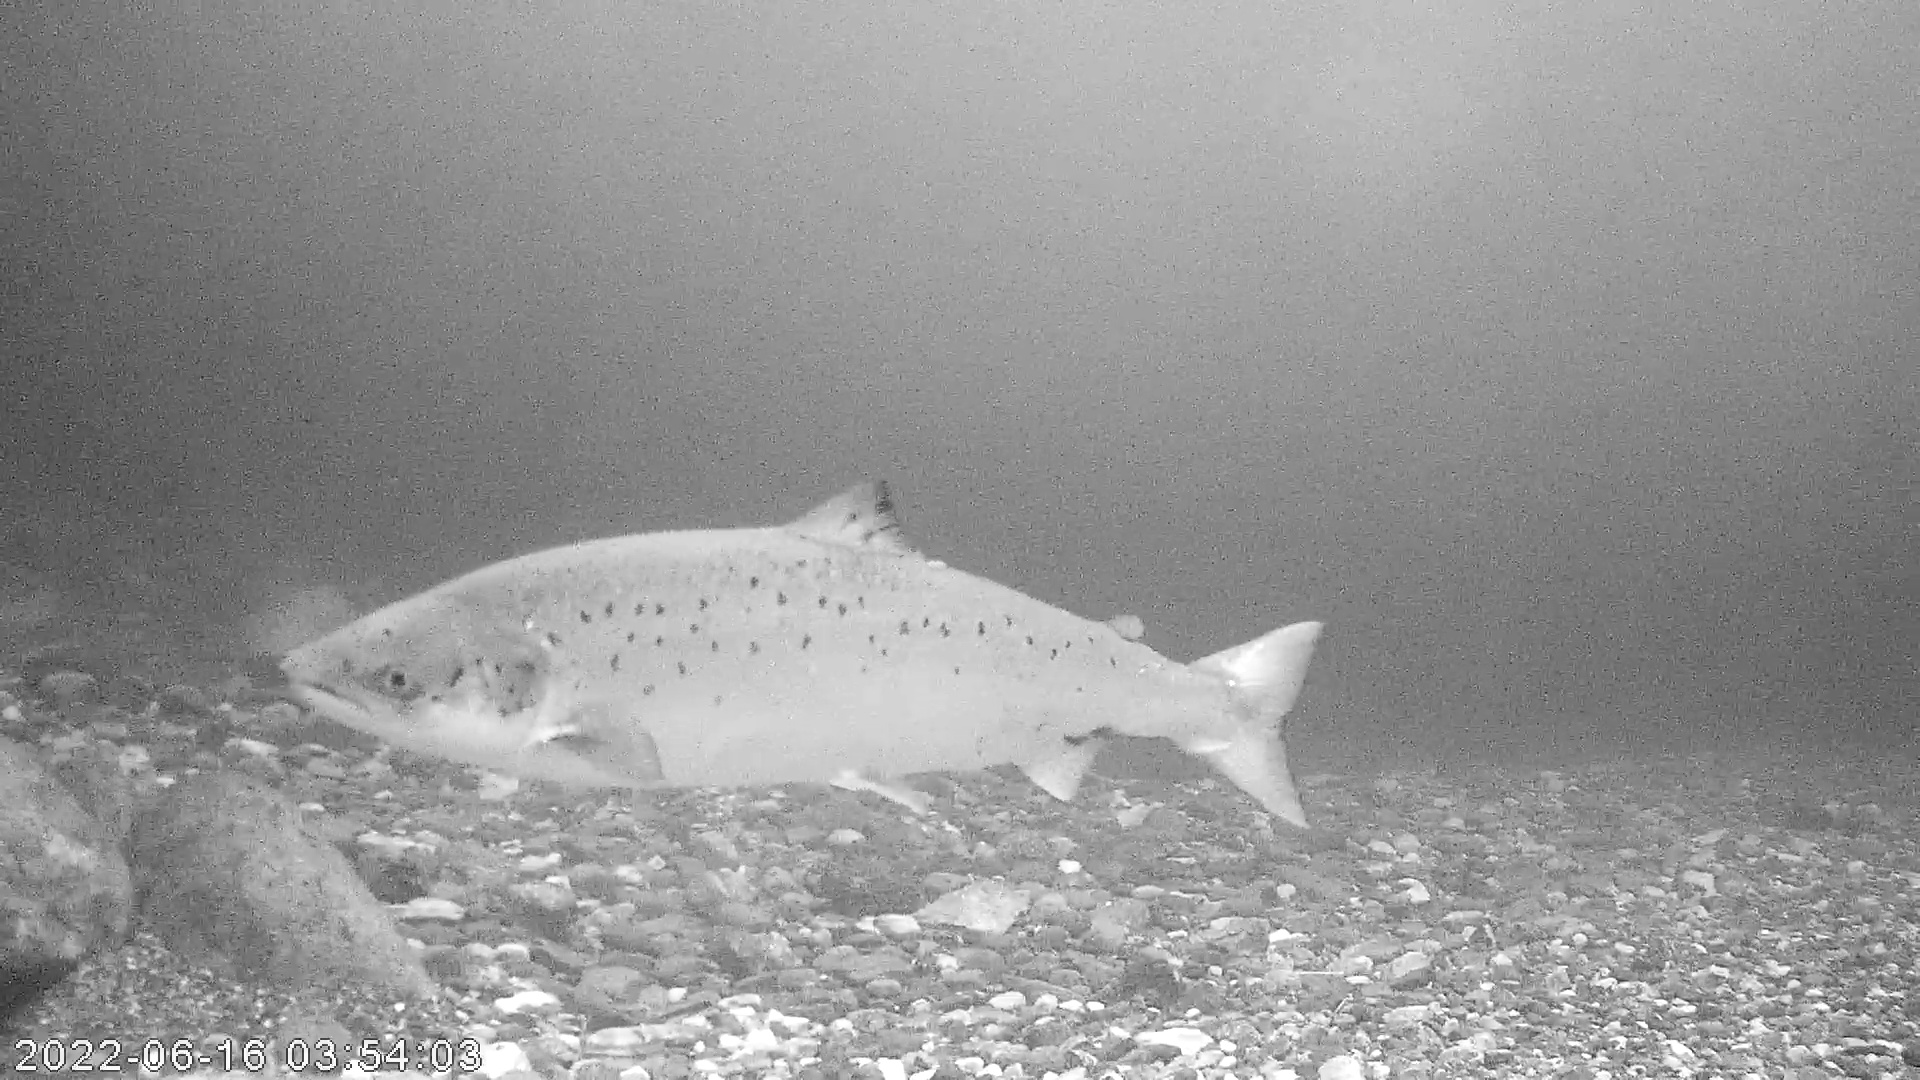salmon: (278, 476, 1327, 829)
